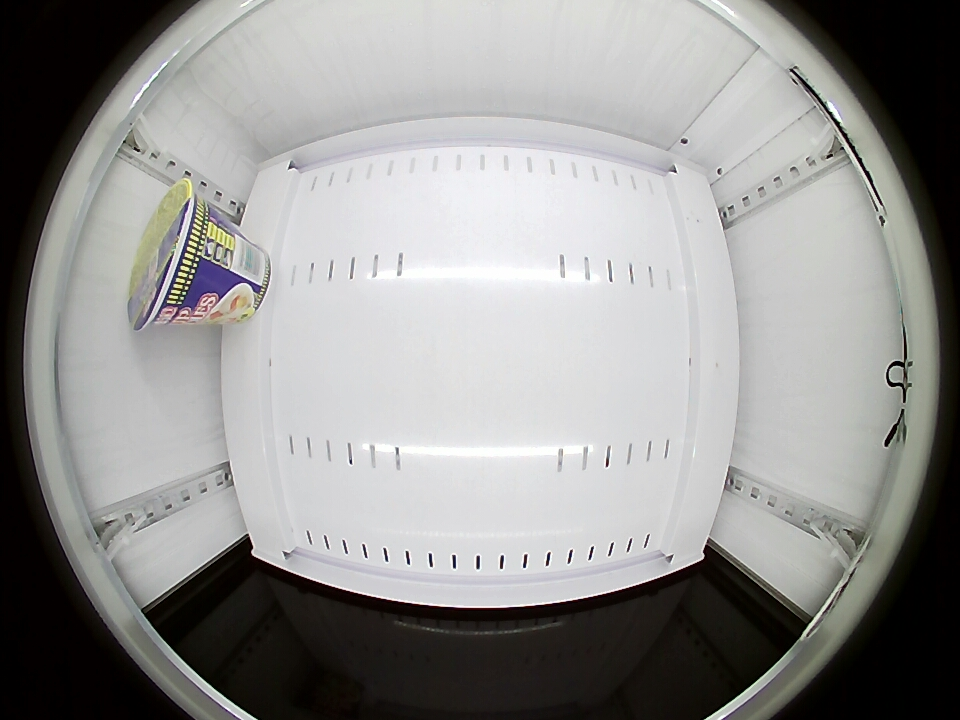heweidao: (127, 178, 212, 331)
